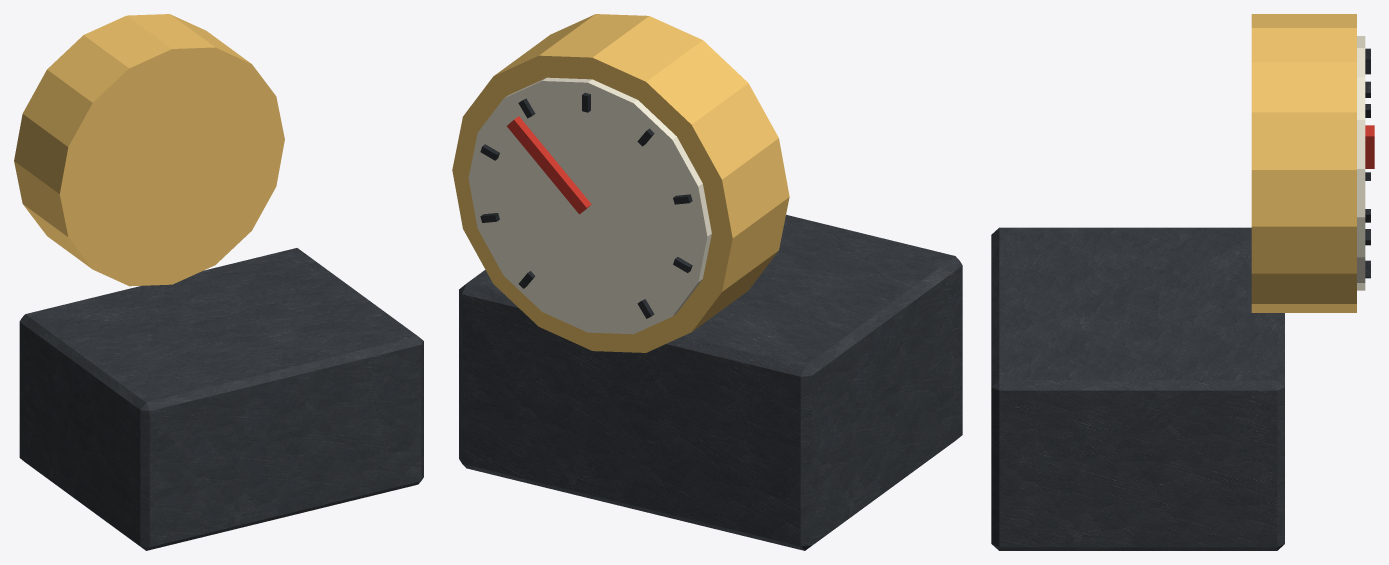
File: train_pressure_gauge.gltf
The picture shows the model from 3 angles, left to right: view 1: azimuth 30°, elevation 25°; view 2: azimuth 150°, elevation 25°; view 3: azimuth 270°, elevation 25°; orthographic projection. The views are drawn at different scales.
Size of the model in its own units: 0.68 by 0.89 by 0.6915.
Materials: 5 (2 with a texture image).
